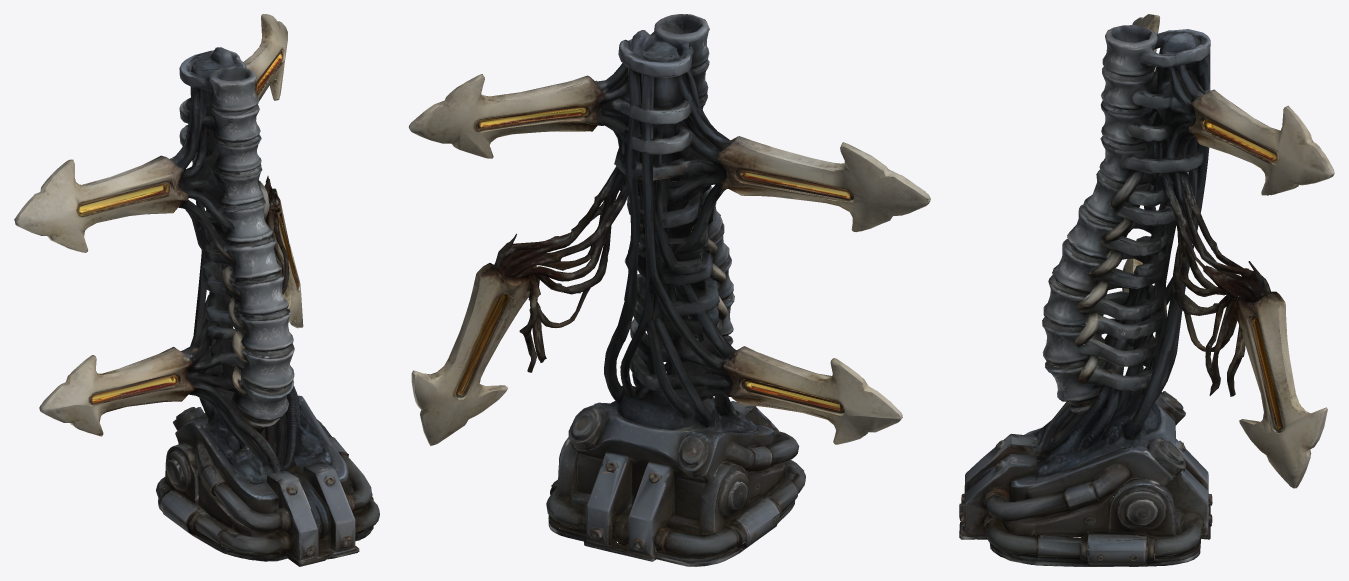
Rendered from life_wayfinding_totem.glb.
3 renders of one model, left to right at view 1: azimuth 30°, elevation 25°; view 2: azimuth 150°, elevation 25°; view 3: azimuth 270°, elevation 25°, orthographic. The views are drawn at different scales.
Visible parts, largest first — view 1: node_0; view 2: node_0; view 3: node_0.
Part boxes in pixels (bbox=[...]): node_0: bbox=[14, 14, 379, 566]; node_0: bbox=[408, 14, 930, 566]; node_0: bbox=[959, 14, 1334, 566].
Bounding box in the file's own units: 0.79 × 0.9235 × 0.6427.
1 material, 1 textured.
